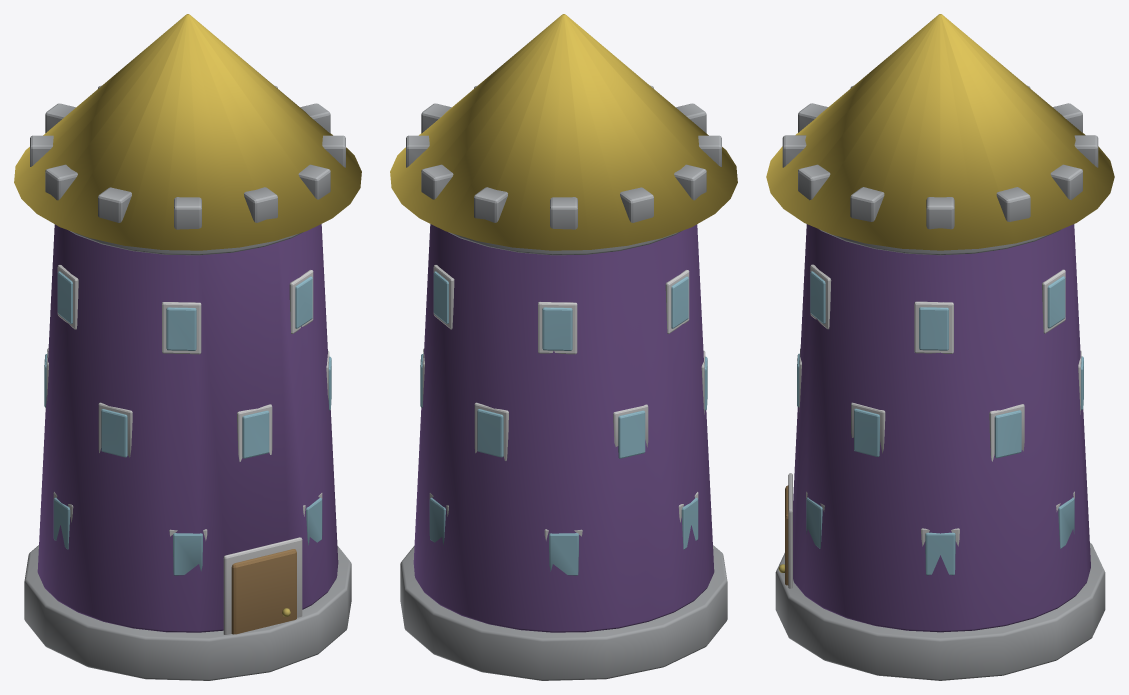
Rendered from atelier1.glb.
3 renders of one model, left to right at view 1: azimuth 30°, elevation 25°; view 2: azimuth 150°, elevation 25°; view 3: azimuth 270°, elevation 25°, orthographic.
Visible parts, largest first — view 1: tour__wall, toit__roof, socle__stone, porte__wood, chambr__frame, fen__glass.015, fen__glass.010, fen__glass.009, fen__glass.004, corniche__stone, creneau__stone.007, creneau__stone.009 (+13 smaller); view 2: tour__wall, toit__roof, socle__stone, fen__glass.013, fen__glass.008, fen__glass.007, fen__glass.002, corniche__stone, creneau__stone.005, creneau__stone.003, creneau__stone.004, fenc__frame.013 (+10 smaller); view 3: tour__wall, toit__roof, socle__stone, fen__glass.017, fen__glass.006, fen__glass, fen__glass.011, corniche__stone, creneau__stone.001, creneau__stone.011, creneau__stone, fen__glass.012 (+10 smaller).
Boxes of the visible parts, x1,y1,x2,y2 form: tour__wall: [37, 224, 338, 632]; toit__roof: [14, 14, 361, 250]; socle__stone: [24, 545, 351, 680]; porte__wood: [231, 549, 296, 634]; chambr__frame: [223, 537, 302, 634]; fen__glass.015: [166, 307, 196, 350]; fen__glass.010: [242, 410, 269, 458]; fen__glass.009: [101, 409, 127, 457]; fen__glass.004: [173, 533, 202, 575]; corniche__stone: [69, 230, 303, 255]; creneau__stone.007: [98, 187, 131, 222]; creneau__stone.009: [244, 187, 277, 222]; tour__wall: [413, 224, 714, 632]; toit__roof: [390, 14, 737, 250]; socle__stone: [400, 545, 727, 680]; fen__glass.013: [542, 307, 572, 350]; fen__glass.008: [618, 410, 645, 458]; fen__glass.007: [477, 409, 503, 457]; fen__glass.002: [549, 533, 578, 575]; corniche__stone: [448, 230, 682, 255]; creneau__stone.005: [620, 187, 653, 222]; creneau__stone.003: [474, 187, 507, 222]; creneau__stone.004: [550, 197, 577, 229]; fenc__frame.013: [538, 301, 577, 354]; tour__wall: [793, 224, 1090, 632]; toit__roof: [766, 14, 1114, 250]; socle__stone: [775, 543, 1105, 680]; fen__glass.017: [919, 307, 948, 350]; fen__glass.006: [994, 410, 1021, 458]; fen__glass: [925, 532, 955, 575]; fen__glass.011: [854, 408, 879, 456]; corniche__stone: [819, 229, 1061, 255]; creneau__stone.001: [996, 187, 1030, 221]; creneau__stone.011: [850, 187, 884, 221]; creneau__stone: [926, 197, 954, 229]; fen__glass.012: [1047, 276, 1065, 328].
Size of the model in its own units: 3.7 by 7 by 3.7.
